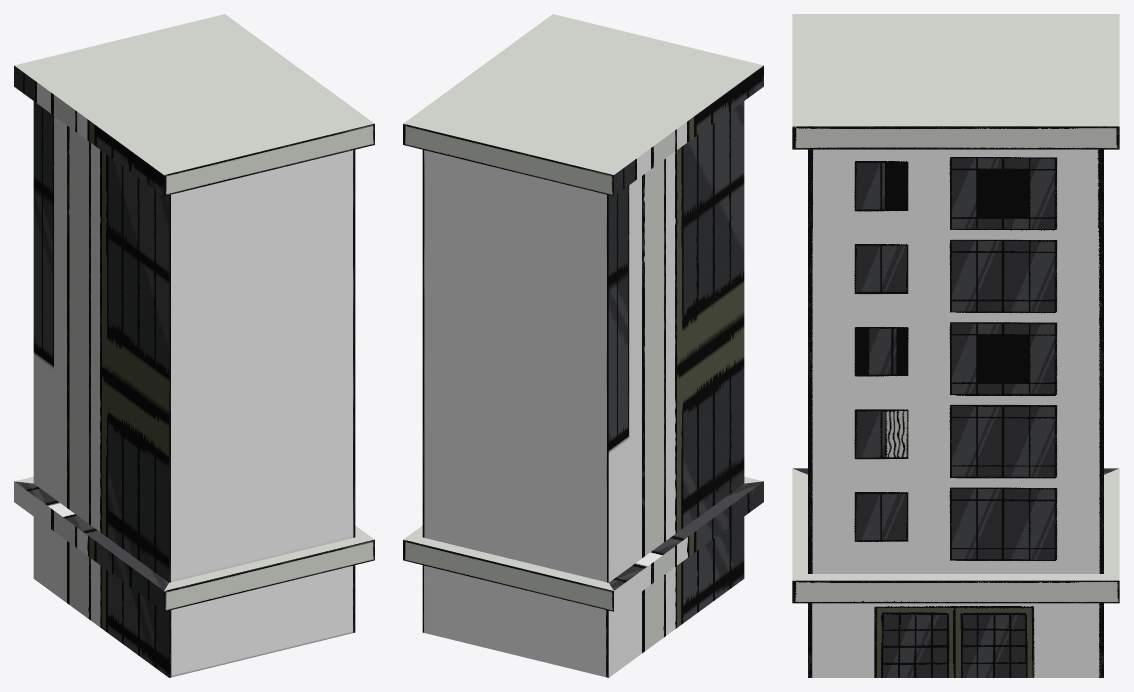
The model's file is predio_4.glb.
3 renders of one model, left to right at view 1: azimuth 30°, elevation 25°; view 2: azimuth 150°, elevation 25°; view 3: azimuth 270°, elevation 25°, orthographic. The views are drawn at different scales.
Visible parts, largest first — view 1: Cube; view 2: Cube; view 3: Cube.
Part boxes in pixels (x1,y1,x2,y2): Cube: [14, 14, 374, 677]; Cube: [403, 14, 763, 677]; Cube: [792, 14, 1119, 677].
Bounding box in the file's own units: 2.27 × 5.25 × 2.79.
Materials: 1 (1 with a texture image).
